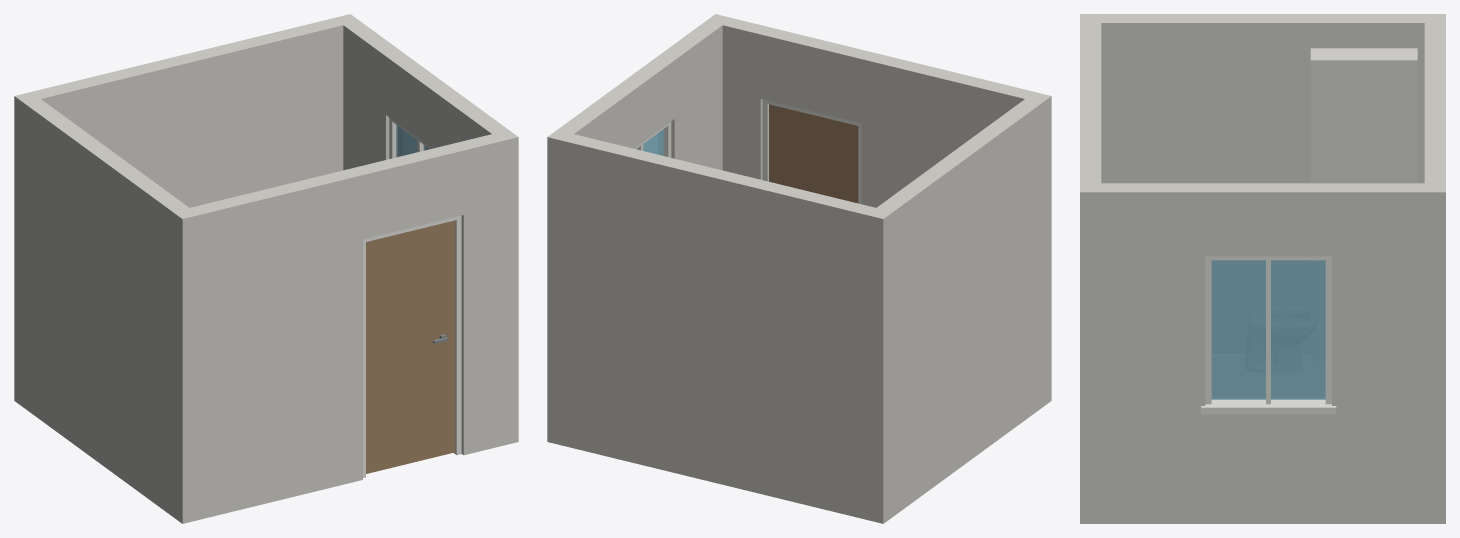
The model's file is layoutvlm.glb.
3 renders of one model, left to right at view 1: azimuth 30°, elevation 25°; view 2: azimuth 150°, elevation 25°; view 3: azimuth 270°, elevation 25°, orthographic. The views are drawn at different scales.
Parts seen in each view (by area): view 1: wall|scenesmith_101__R00|0, wall|scenesmith_101__R00|2, wall|scenesmith_101__R00|1, wall|scenesmith_101__R00|0 Door 0 | wood leaf, wall|scenesmith_101__R00|3, wall|scenesmith_101__R00|0 Door 0 | jamb; view 2: wall|scenesmith_101__R00|1, wall|scenesmith_101__R00|2, wall|scenesmith_101__R00|0, wall|scenesmith_101__R00|3, wall|scenesmith_101__R00|0 Door 0 | wood leaf, wall|scenesmith_101__R00|0 Door 0 | jamb; view 3: wall|scenesmith_101__R00|3, wall|scenesmith_101__R00|2, wall|scenesmith_101__R00|3 Window 0 | glazing, scenesmith_101__R00_service_void-0 | structural enclosure, wall|scenesmith_101__R00|3 Window 0 | jamb, wall|scenesmith_101__R00|1, wall|scenesmith_101__R00|0.
Part boxes in pixels (x1,y1,x2,y2): wall|scenesmith_101__R00|0: [182, 134, 518, 523]; wall|scenesmith_101__R00|2: [15, 92, 198, 523]; wall|scenesmith_101__R00|1: [14, 18, 343, 407]; wall|scenesmith_101__R00|0 Door 0 | wood leaf: [366, 220, 455, 473]; wall|scenesmith_101__R00|3: [334, 14, 517, 170]; wall|scenesmith_101__R00|0 Door 0 | jamb: [363, 215, 461, 477]; wall|scenesmith_101__R00|1: [547, 134, 893, 523]; wall|scenesmith_101__R00|2: [867, 92, 1051, 516]; wall|scenesmith_101__R00|0: [722, 18, 1034, 207]; wall|scenesmith_101__R00|3: [548, 14, 731, 170]; wall|scenesmith_101__R00|0 Door 0 | wood leaf: [769, 104, 858, 203]; wall|scenesmith_101__R00|0 Door 0 | jamb: [762, 99, 861, 204]; wall|scenesmith_101__R00|3: [1080, 183, 1445, 523]; wall|scenesmith_101__R00|2: [1080, 14, 1445, 183]; wall|scenesmith_101__R00|3 Window 0 | glazing: [1211, 260, 1325, 399]; scenesmith_101__R00_service_void-0 | structural enclosure: [1310, 48, 1417, 183]; wall|scenesmith_101__R00|3 Window 0 | jamb: [1201, 256, 1336, 414]; wall|scenesmith_101__R00|1: [1424, 14, 1445, 183]; wall|scenesmith_101__R00|0: [1080, 23, 1101, 183].
Bounding box in the file's own units: 3.03 × 2.61 × 2.6.
